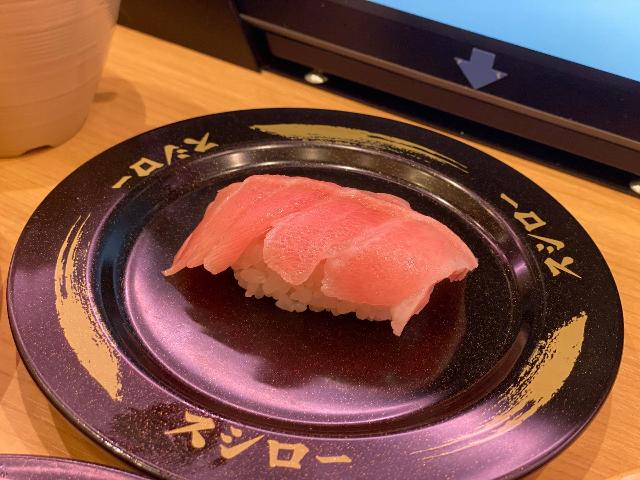janback: (9, 327, 623, 480), (472, 145, 625, 329), (29, 153, 179, 331), (197, 97, 503, 173), (0, 447, 155, 480)
